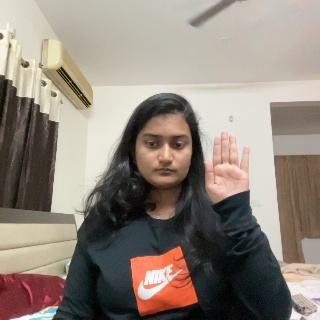Face: (133, 98, 194, 190)
Hello: (203, 132, 252, 215)
